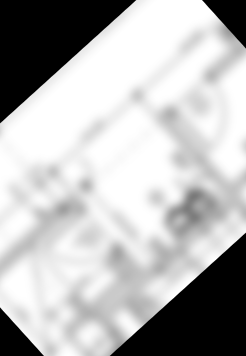door: (167, 74, 246, 156), (40, 206, 118, 283)
wall: (99, 192, 240, 322), (152, 108, 246, 228), (0, 190, 85, 292), (78, 293, 131, 348), (200, 41, 246, 89), (92, 266, 137, 309), (60, 297, 103, 339), (109, 240, 147, 280), (228, 137, 246, 196)
